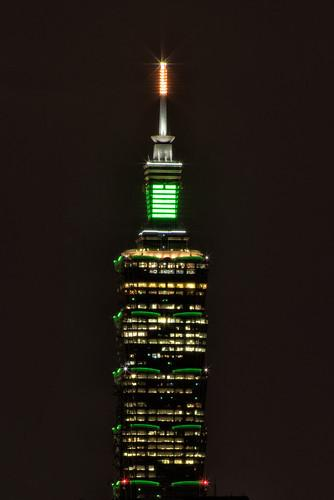building: (106, 130, 216, 498)
